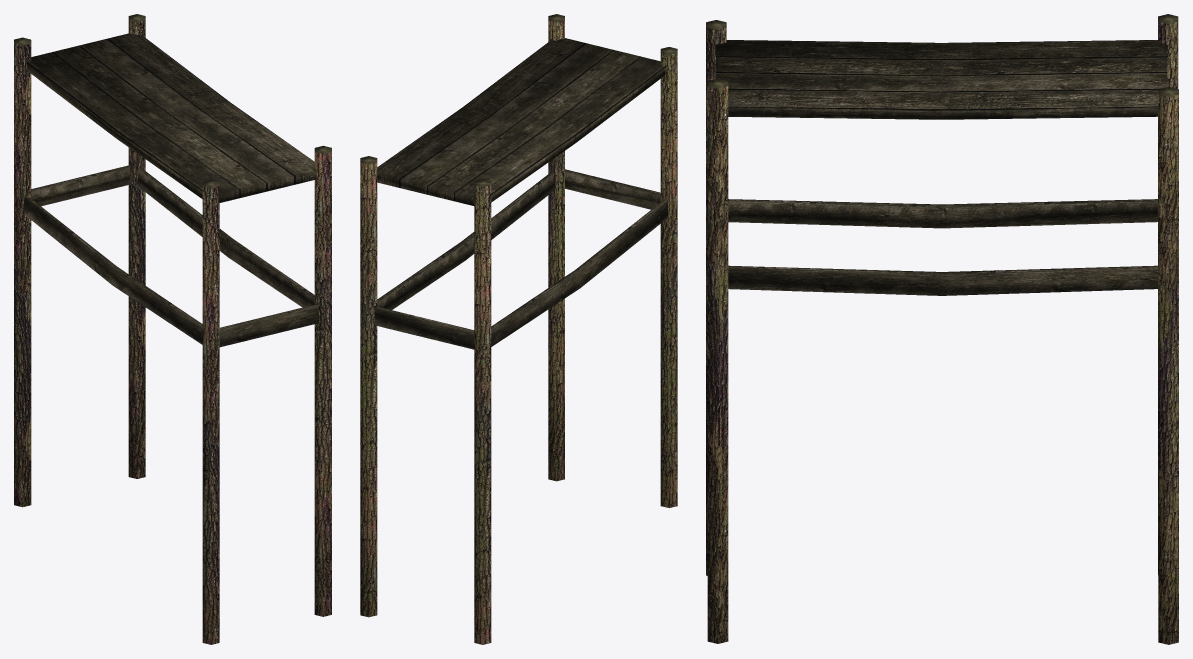
Rendered from GS_CITY_CONSTRUCTION_02.glb.
3 views of the same model, side by side, from view 1: azimuth 30°, elevation 25°; view 2: azimuth 150°, elevation 25°; view 3: azimuth 270°, elevation 25° (orthographic). The views are drawn at different scales.
Parts seen in each view (by area): view 1: Mesh; view 2: Mesh; view 3: Mesh.
Part boxes in pixels (<box>): Mesh: <box>14,14,331,644</box>; Mesh: <box>360,14,677,644</box>; Mesh: <box>706,14,1178,644</box>.
Size of the model in its own units: 1.36 by 4.57 by 3.52.
Materials: 3 (3 with a texture image).
